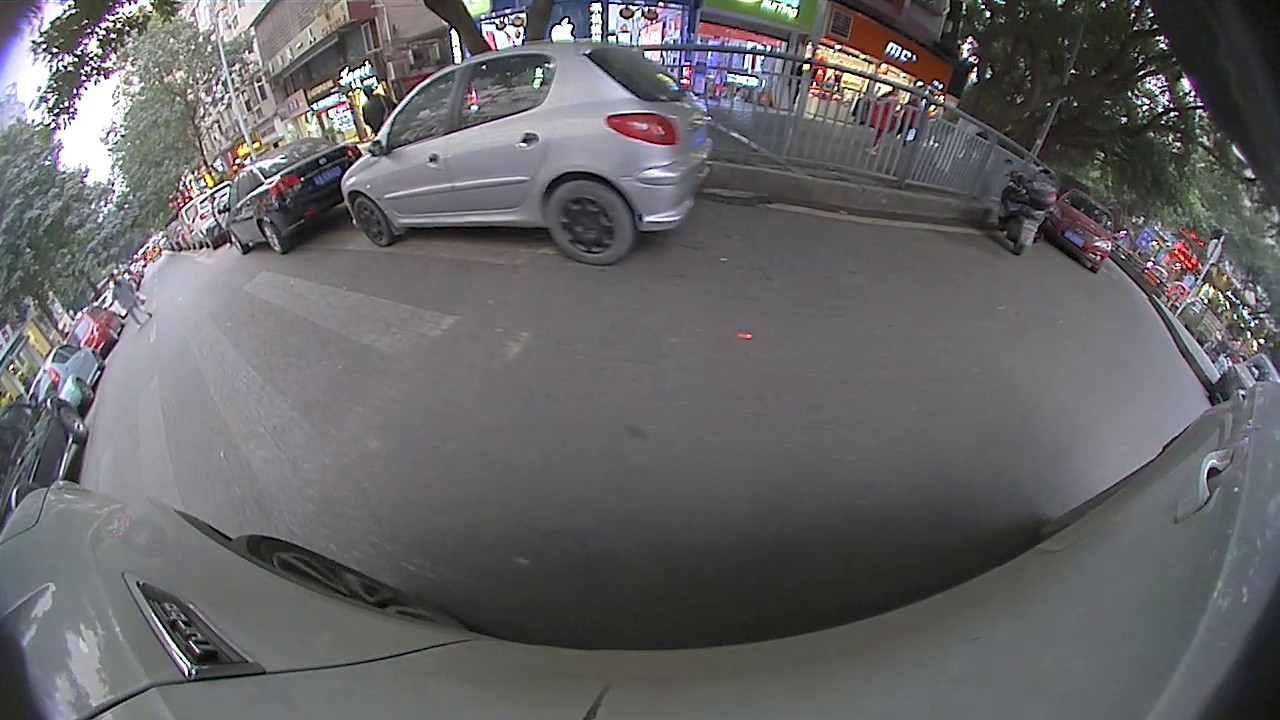car: (341, 40, 709, 267), (224, 136, 358, 256), (1, 394, 91, 520), (1040, 188, 1115, 267), (31, 344, 104, 414), (71, 307, 118, 354)
front: (346, 198, 392, 249), (60, 404, 90, 442)
person: (361, 85, 385, 138), (112, 274, 132, 331)
rear: (547, 182, 633, 264), (260, 222, 288, 255), (76, 376, 97, 402)
rider: (999, 155, 1051, 256)
